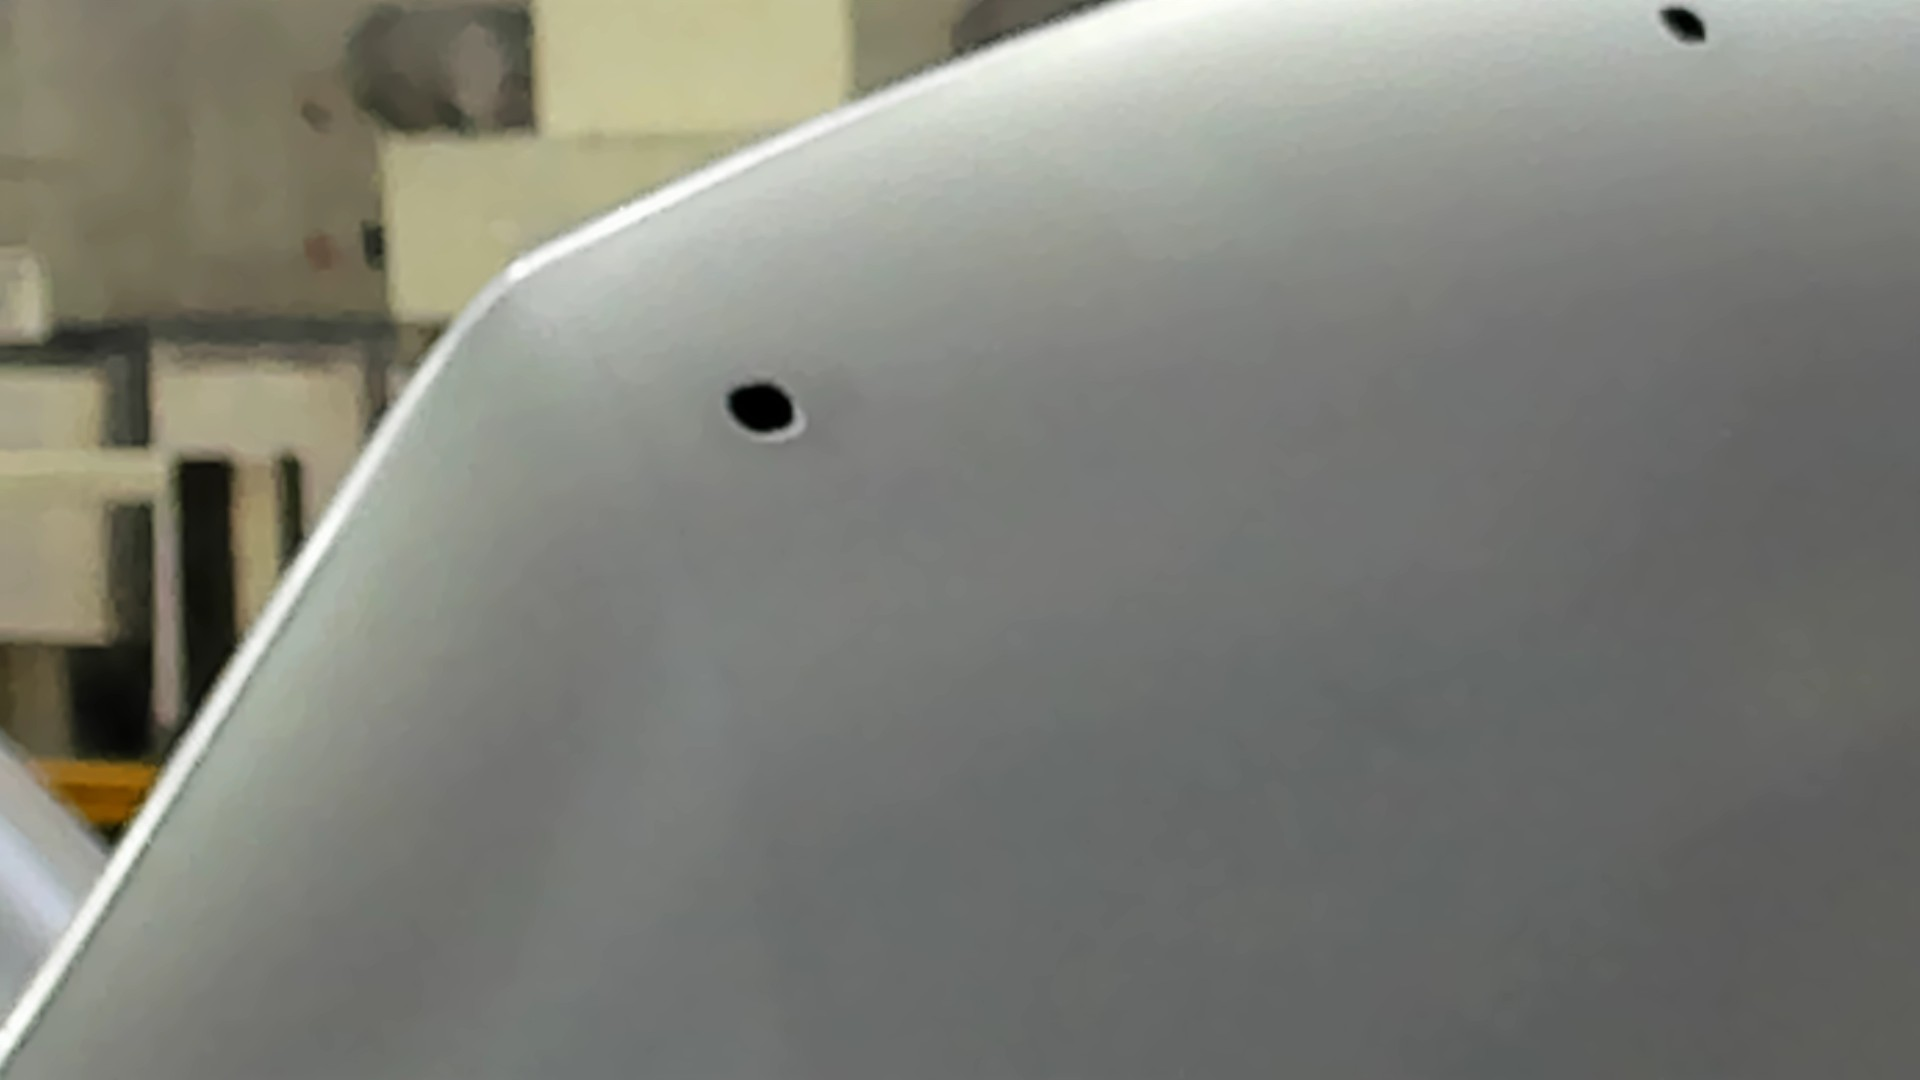amorfo: (721, 376, 804, 442), (1652, 1, 1717, 50)
